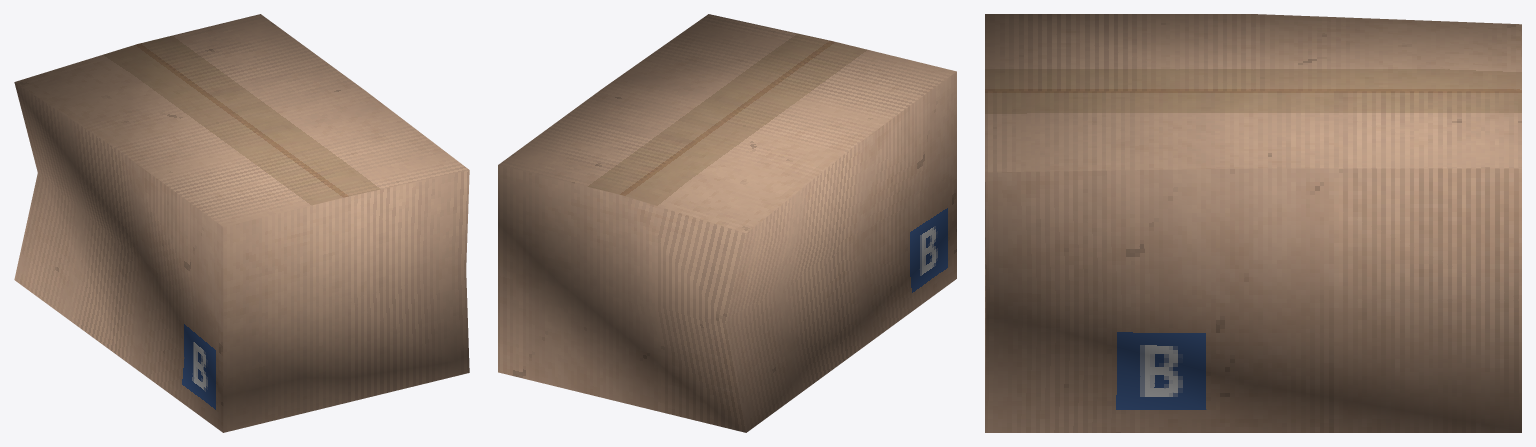
Rendered from Karton1.gltf.
3 renders of one model, left to right at view 1: azimuth 30°, elevation 25°; view 2: azimuth 150°, elevation 25°; view 3: azimuth 270°, elevation 25°, orthographic. The views are drawn at different scales.
Parts seen in each view (by area): view 1: Karton_1; view 2: Karton_1; view 3: Karton_1.
Boxes of the visible parts, x1,y1,x2,y2 form: Karton_1: (14,14,469,432); Karton_1: (498,14,956,432); Karton_1: (985,14,1521,432).
Size of the model in its own units: 0.4282 by 0.342 by 0.629.
1 material, 1 textured.
